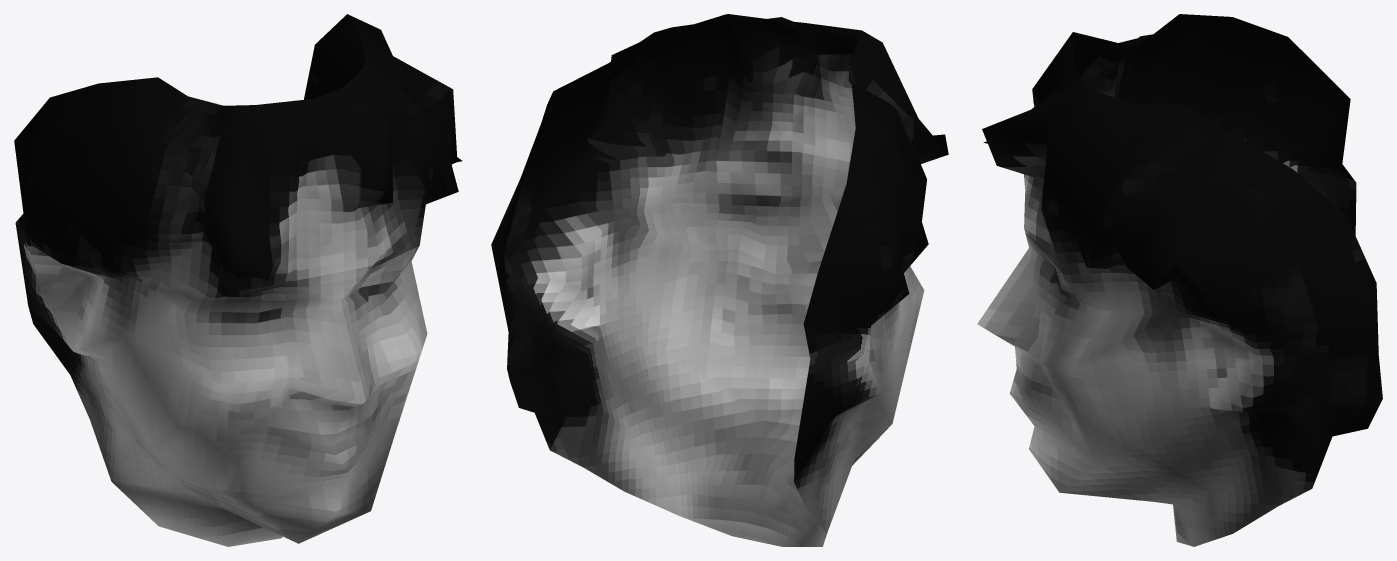
File: head.gltf
3 renders of one model, left to right at view 1: azimuth 30°, elevation 25°; view 2: azimuth 150°, elevation 25°; view 3: azimuth 270°, elevation 25°, orthographic. The views are drawn at different scales.
Parts seen in each view (by area): view 1: head3d; view 2: head3d; view 3: head3d.
Part boxes in pixels (x1,y1,x2,y2): head3d: (14, 14, 462, 546); head3d: (491, 14, 948, 546); head3d: (977, 14, 1382, 546).
Size of the model in its own units: 1.92 by 2.35 by 1.83.
Materials: 1 (1 with a texture image).
